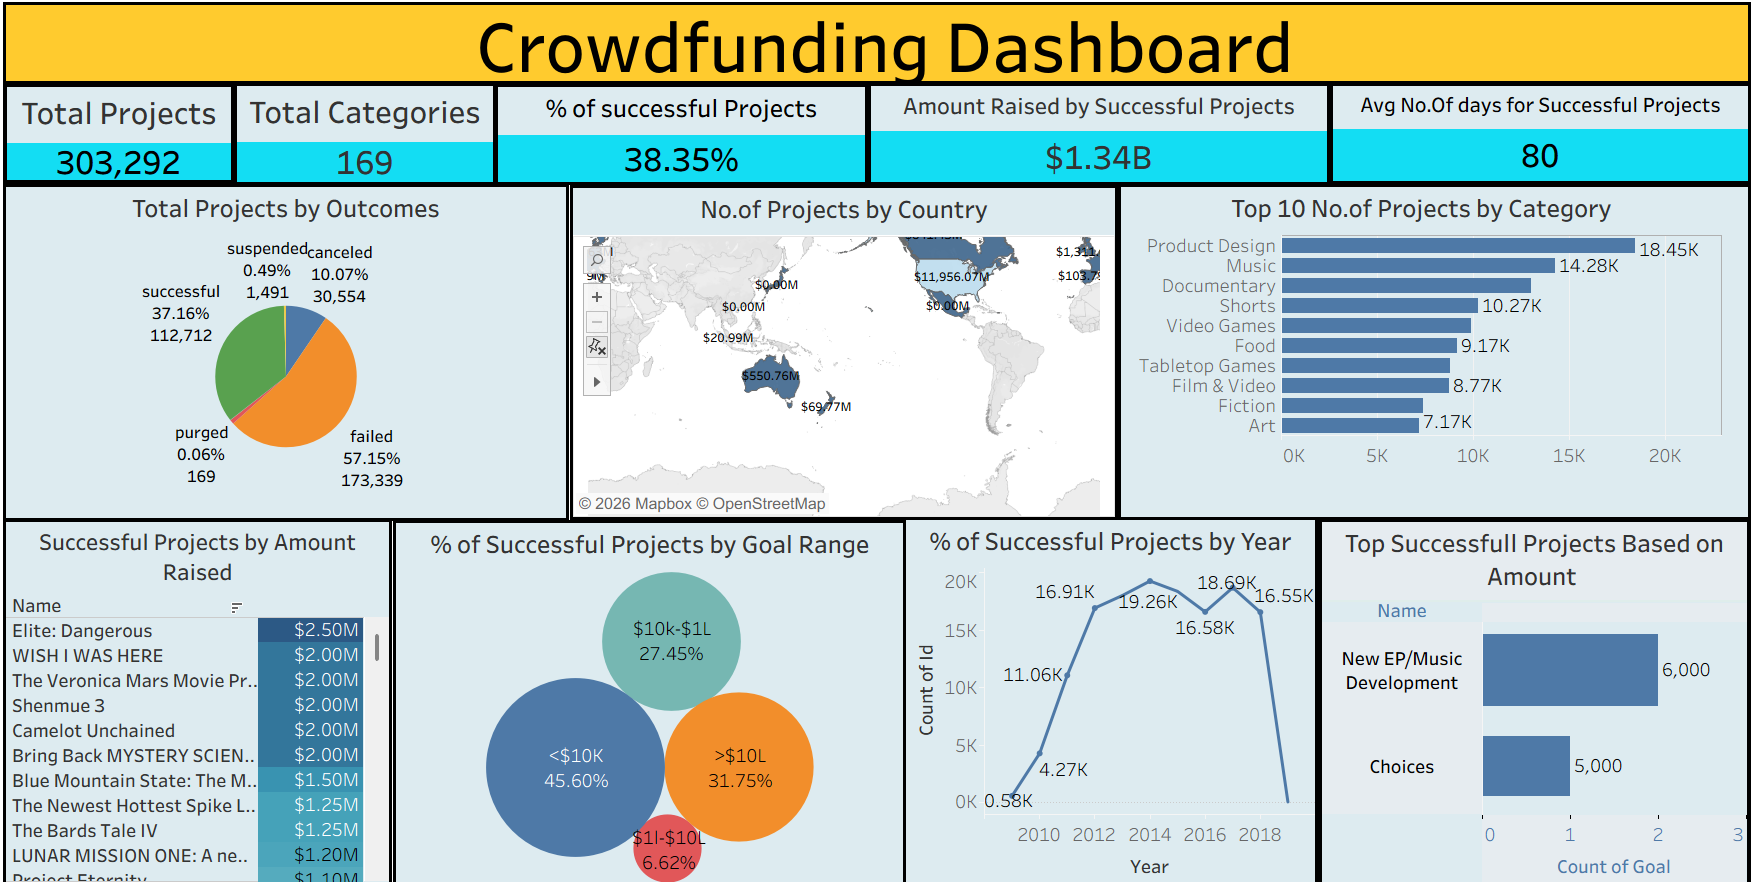

Layout of this report page (visuals, bound fields, positions):
{"tool":"powerbi","page":{"name":"Dashboard","canvas":[1280,1400],"ordinal":0},"visuals":[{"type":"textbox","box":[11.4,10,1112.9,62.9],"z":0},{"type":"slicer","fields":{"Values":["Calendar.Date.Variation.Date Hierarchy.Year"]},"box":[11.4,86.9,129.7,156.8],"z":1000},{"type":"slicer","fields":{"Values":["Calendar.Date.Variation.Date Hierarchy.Quarter"]},"box":[11.4,256.6,129.7,159.6],"z":2000},{"type":"card","title":"Avg. No. of Days for Successful Projects","fields":{"Values":["Avg(Project.No_Days_for_completion)"]},"box":[608.6,86.9,206.7,94.1],"z":3000},{"type":"card","title":"Backers Count for Successful Projects","fields":{"Values":["Sum(Project.backers_count)"]},"box":[382,86.9,205.3,94.1],"z":4000},{"type":"card","title":"Amount Raised by Successful Projects","fields":{"Values":["Sum(Project.Static usd)"]},"box":[838.1,86.9,205.3,94.1],"z":5000},{"type":"donutChart","title":"No. of Projects by Outcome","fields":{"Category":["Project.state"],"Y":["CountNonNull(Project.id)"]},"box":[153.3,195,363.3,240],"z":6000},{"type":"clusteredBarChart","title":"No. of Projects by Country","fields":{"Y":["CountNonNull(Project.id)"],"Category":["Project.country"]},"box":[528.3,195,363.3,240],"z":7000},{"type":"clusteredBarChart","title":"No. of Projects by Category","fields":{"Y":["CountNonNull(Project.id)"],"Category":["Category.name"]},"box":[903.3,195,363.3,240],"z":8000},{"type":"slicer","fields":{"Values":["Calendar.Date.Variation.Date Hierarchy.Month"]},"box":[11.7,430,130,281.7],"z":9000},{"type":"card","title":"Successful Projects","fields":{"Values":["Project.Percentage_ofSuccessfulProjects"]},"box":[153.9,86.9,205.3,94.1],"z":10000},{"type":"actionButton","box":[1066.7,133.3,200,48.3],"z":11000},{"type":"tableEx","title":"Successful Projects","fields":{"Values":["Project.name","Sum(Project.Static usd)","Sum(Project.backers_count)","Sum(Project.No_Days_for_completion)"]},"box":[153.3,451.7,738.3,260],"z":12000},{"type":"funnel","title":"% of Successful Projects by Goal_Range","fields":{"Category":["Project.Goal_Range"],"Y":["Project.Percentage_ofSuccessfulProjects"]},"box":[903.3,451.7,363.3,260],"z":13000},{"type":"columnChart","title":"% of Successful Projects by Category","fields":{"Category":["Category.name"],"Y":["Project.Percentage_ofSuccessfulProjects"]},"box":[11.7,728.3,1255,313.3],"z":14000},{"type":"lineChart","title":"% of Successful Projects by Year","fields":{"Category":["Calendar.Date.Variation.Date Hierarchy.Year"],"Y":["Project.Percentage_ofSuccessfulProjects"]},"box":[11.7,1058.3,401.7,325],"z":15000},{"type":"lineChart","title":"% of Successful Projects by Quarter","fields":{"Y":["Project.Percentage_ofSuccessfulProjects"],"Category":["Calendar.Date.Variation.Date Hierarchy.Quarter"]},"box":[438.3,1058.3,401.7,325],"z":16000},{"type":"lineChart","title":"% of Successful Projects by Month","fields":{"Y":["Project.Percentage_ofSuccessfulProjects"],"Category":["Calendar.Date.Variation.Date Hierarchy.Month"]},"box":[865,1058.3,401.7,325],"z":17000},{"type":"shape","box":[1066.7,86.7,200,46.7],"z":18000},{"type":"image","box":[1135.7,10,130,62.9],"z":19000}]}

Visuals, with their boxes on the page's 1280x1400 design canvas (x1, y1, x2, y2). These are canvas units, not pixel positions in the 1752x882 screenshot, which may show the page scaled, cropped or inside an application window:
textbox: [11, 10, 1124, 73]
slicer - Calendar.Date.Variation.Date Hierarchy.Year: [11, 87, 141, 244]
slicer - Calendar.Date.Variation.Date Hierarchy.Quarter: [11, 257, 141, 416]
"Avg. No. of Days for Successful Projects" card: [609, 87, 815, 181]
"Backers Count for Successful Projects" card: [382, 87, 587, 181]
"Amount Raised by Successful Projects" card: [838, 87, 1043, 181]
"No. of Projects by Outcome" donutChart: [153, 195, 517, 435]
"No. of Projects by Country" clusteredBarChart: [528, 195, 892, 435]
"No. of Projects by Category" clusteredBarChart: [903, 195, 1267, 435]
slicer - Calendar.Date.Variation.Date Hierarchy.Month: [12, 430, 142, 712]
"Successful Projects" card: [154, 87, 359, 181]
actionButton: [1067, 133, 1267, 182]
"Successful Projects" tableEx: [153, 452, 892, 712]
"% of Successful Projects by Goal_Range" funnel: [903, 452, 1267, 712]
"% of Successful Projects by Category" columnChart: [12, 728, 1267, 1042]
"% of Successful Projects by Year" lineChart: [12, 1058, 413, 1383]
"% of Successful Projects by Quarter" lineChart: [438, 1058, 840, 1383]
"% of Successful Projects by Month" lineChart: [865, 1058, 1267, 1383]
shape: [1067, 87, 1267, 133]
image: [1136, 10, 1266, 73]
